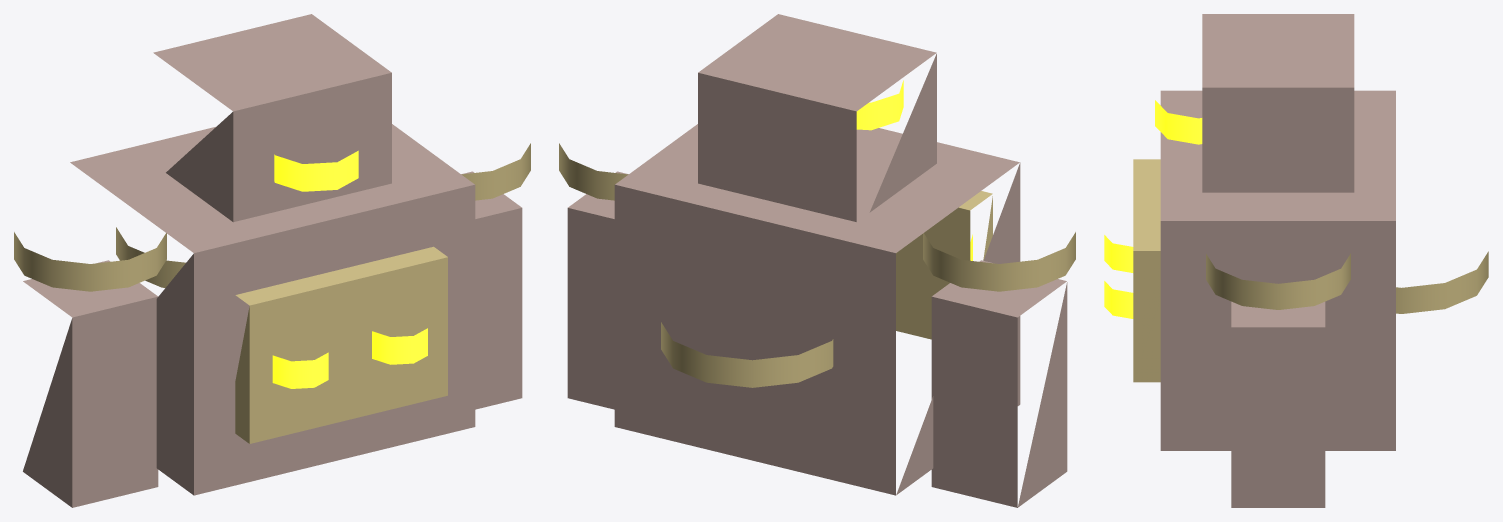
File: golem_mechanical_05.glb
The picture shows the model from 3 angles, left to right: view 1: azimuth 30°, elevation 25°; view 2: azimuth 150°, elevation 25°; view 3: azimuth 270°, elevation 25°; orthographic projection. The views are drawn at different scales.
Parts seen in each view (by area): view 1: MechanicalArmor, MechanicalGears, MechanicalGlow; view 2: MechanicalArmor, MechanicalGears, MechanicalGlow; view 3: MechanicalArmor, MechanicalGears, MechanicalGlow.
Part boxes in pixels (x1,y1,x2,y2): MechanicalArmor: (23,14,522,507); MechanicalGears: (14,143,530,443); MechanicalGlow: (272,150,427,388); MechanicalArmor: (567,14,1067,507); MechanicalGears: (559,143,1075,387); MechanicalGlow: (856,80,972,260); MechanicalArmor: (1160,14,1395,507); MechanicalGears: (1133,159,1488,382); MechanicalGlow: (1104,100,1202,318).
Size of the model in its own units: 1.5 by 1.08 by 1.06.
